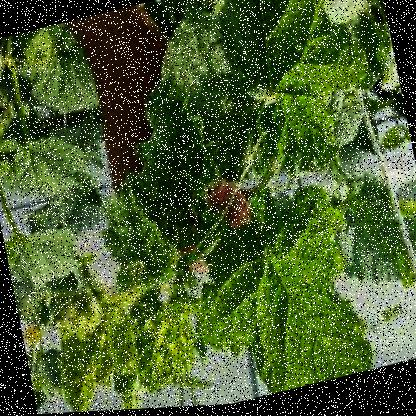CassavaMosaicDisease: (181, 0, 347, 173), (232, 187, 351, 398), (126, 102, 216, 221)
